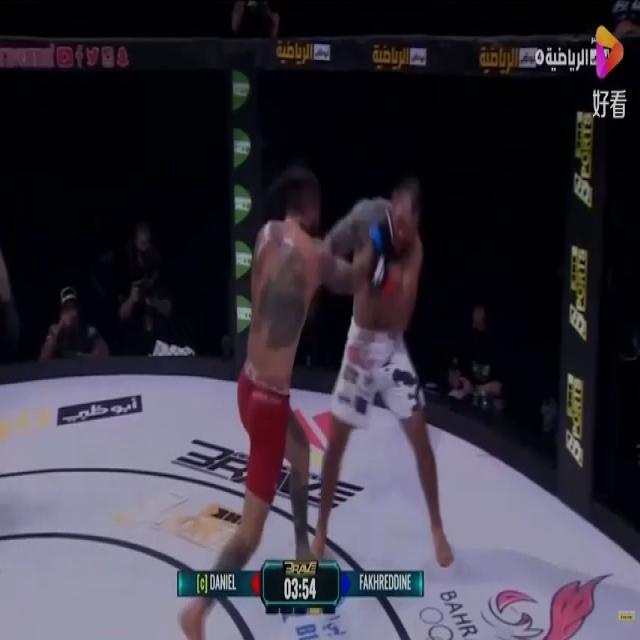fight: (186, 144, 460, 639)
